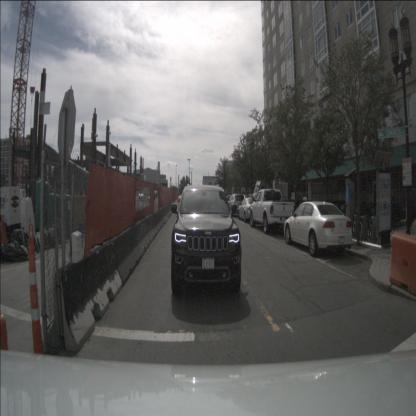movable_object-barrier: (54, 237, 123, 354), (113, 224, 142, 286), (389, 231, 416, 297), (134, 218, 150, 258), (146, 214, 158, 243), (0, 219, 8, 252), (153, 210, 162, 233), (158, 205, 166, 228)
movable_object-trafficcone: (25, 223, 45, 361)
vehicle-car: (171, 185, 242, 294), (284, 201, 352, 257), (238, 198, 259, 222), (227, 193, 245, 215)
vehicle-truck: (249, 188, 296, 234)
